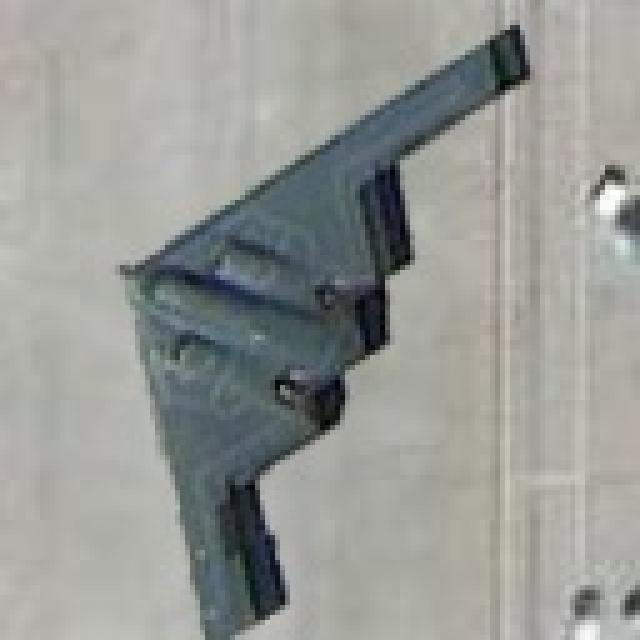B-2_TopDown: (110, 15, 530, 635)
